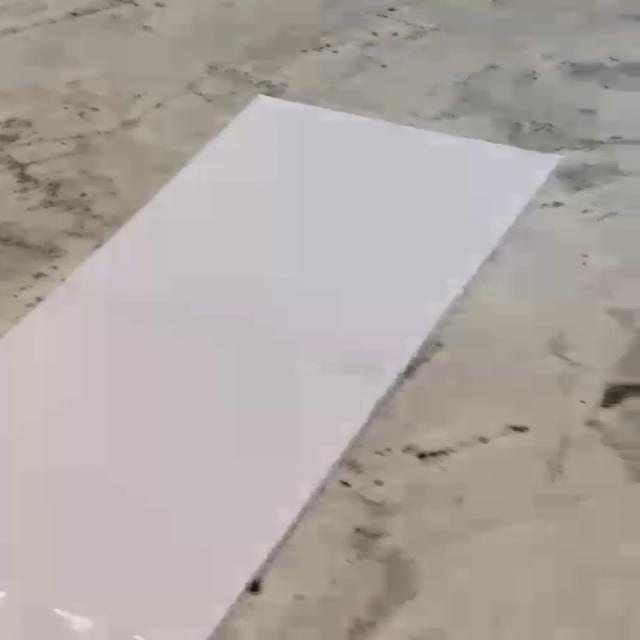road: (1, 97, 559, 640)
